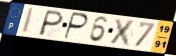6: (88, 15, 110, 43)
7: (134, 20, 157, 48)
I: (21, 7, 36, 35)
P: (62, 11, 90, 41), (37, 9, 65, 37)
X: (108, 17, 139, 48)
